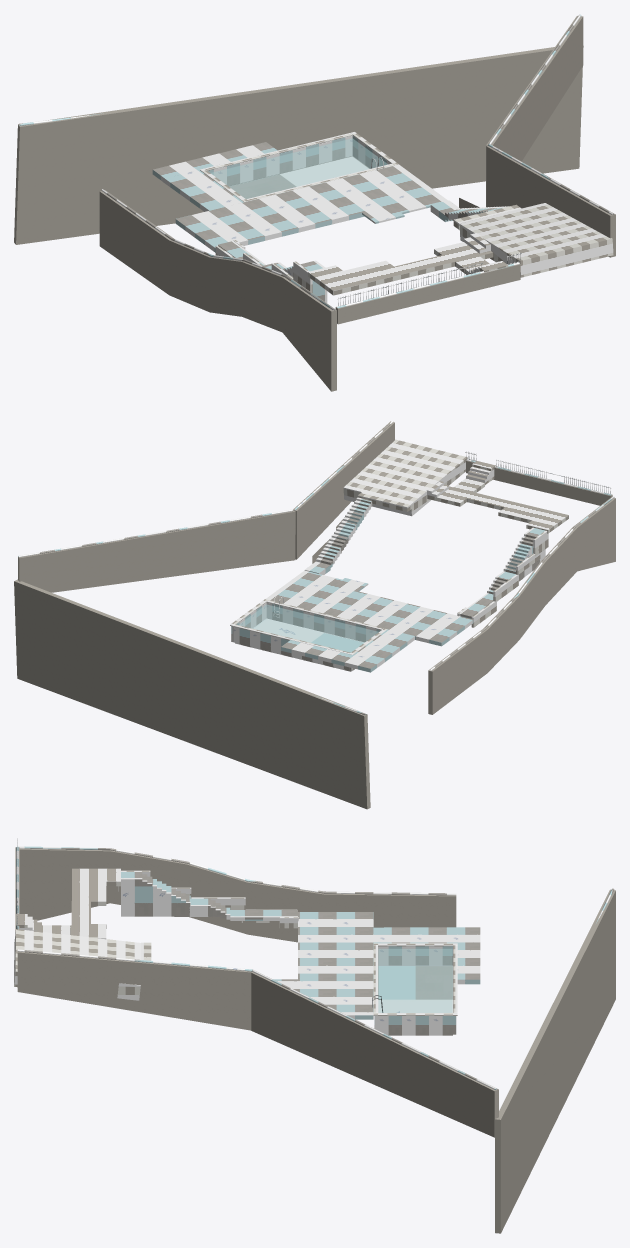
The model's file is garden.glb.
The picture shows the model from 3 angles, top to bottom: view 1: azimuth 30°, elevation 25°; view 2: azimuth 150°, elevation 25°; view 3: azimuth 270°, elevation 25°; orthographic projection. The views are drawn at different scales.
Visible parts, largest first — view 1: garden-other-3, garden-tile-2, garden-other-1, garden-glass-4, garden-metal-0; view 2: garden-other-3, garden-tile-2, garden-other-1, garden-glass-4, garden-metal-0; view 3: garden-other-3, garden-tile-2, garden-other-1, garden-glass-4.
Part boxes in pixels (left/top/right/bottom): garden-other-3: left=14, top=16, right=615, bottom=391; garden-tile-2: left=18, top=14, right=614, bottom=310; garden-other-1: left=200, top=132, right=613, bottom=295; garden-glass-4: left=211, top=138, right=387, bottom=198; garden-metal-0: left=337, top=157, right=521, bottom=306; garden-other-3: left=14, top=421, right=615, bottom=809; garden-tile-2: left=18, top=420, right=614, bottom=714; garden-other-1: left=230, top=439, right=568, bottom=654; garden-glass-4: left=238, top=604, right=378, bottom=652; garden-metal-0: left=273, top=451, right=611, bottom=617; garden-other-3: left=15, top=847, right=615, bottom=1233; garden-tile-2: left=16, top=846, right=614, bottom=1089; garden-other-1: left=14, top=868, right=457, bottom=1015; garden-glass-4: left=378, top=948, right=452, bottom=1012.
Size of the model in its own units: 36.34 by 13.19 by 39.35.
Materials: 5 (5 with a texture image).
